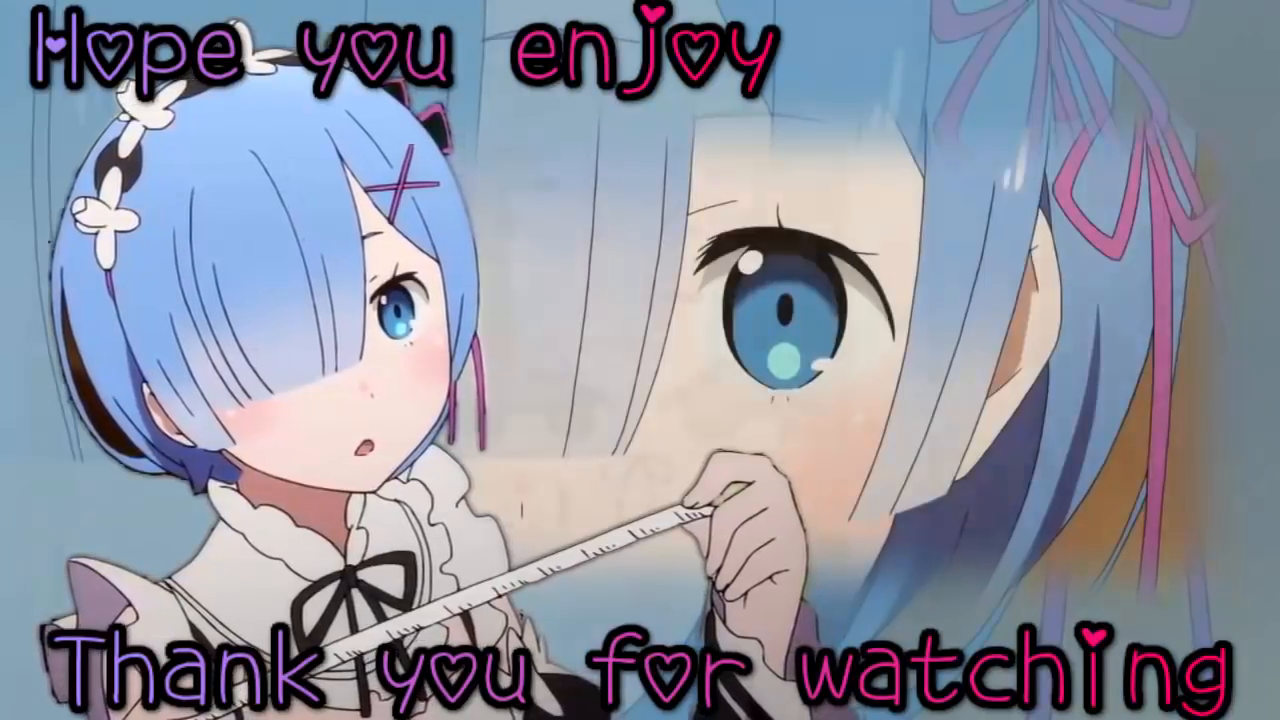REM: (44, 85, 487, 500)
